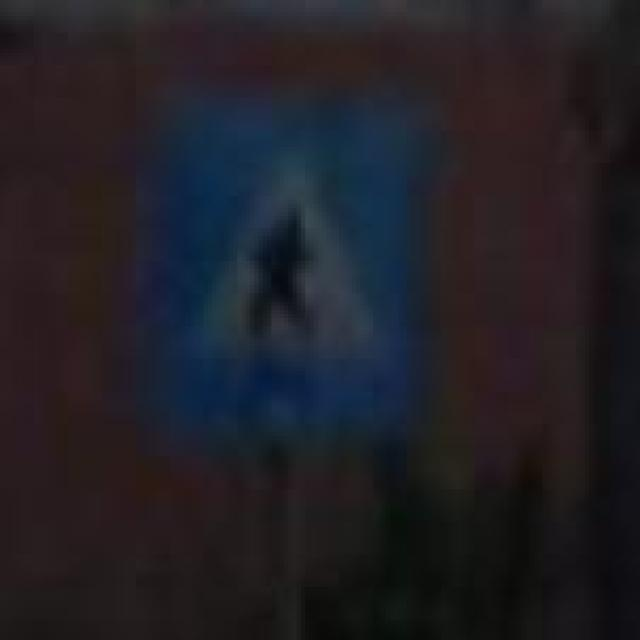traffic sign: (149, 102, 416, 432)
